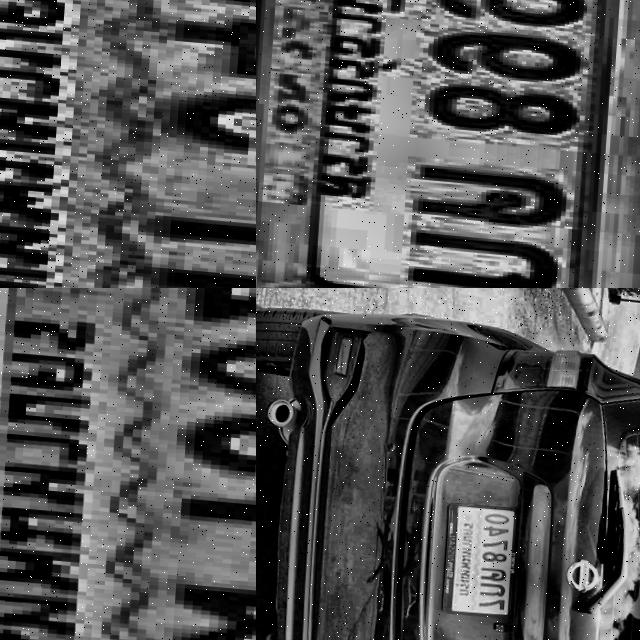license-plate: (256, 0, 637, 288), (0, 288, 256, 640), (0, 0, 256, 288), (442, 495, 522, 610)
